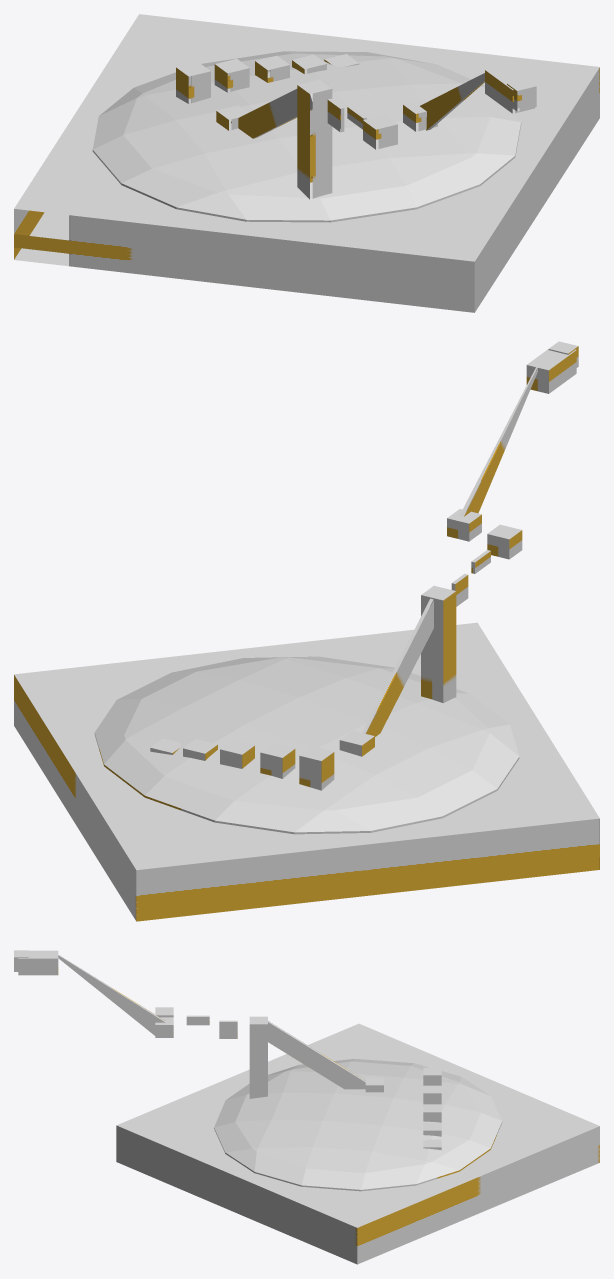
Rendered from level3collider.obj.
The picture shows the model from 3 angles, top to bottom: view 1: azimuth 30°, elevation 25°; view 2: azimuth 150°, elevation 25°; view 3: azimuth 270°, elevation 25°; orthographic projection. The views are drawn at different scales.
Parts seen in each view (by area): view 1: Cube; view 2: Cube; view 3: Cube.
Part boxes in pixels (bbox=[...]): Cube: bbox=[14, 14, 599, 312]; Cube: bbox=[14, 341, 599, 921]; Cube: bbox=[14, 950, 599, 1264].
Size of the model in its own units: 45.35 by 20.85 by 54.95.
